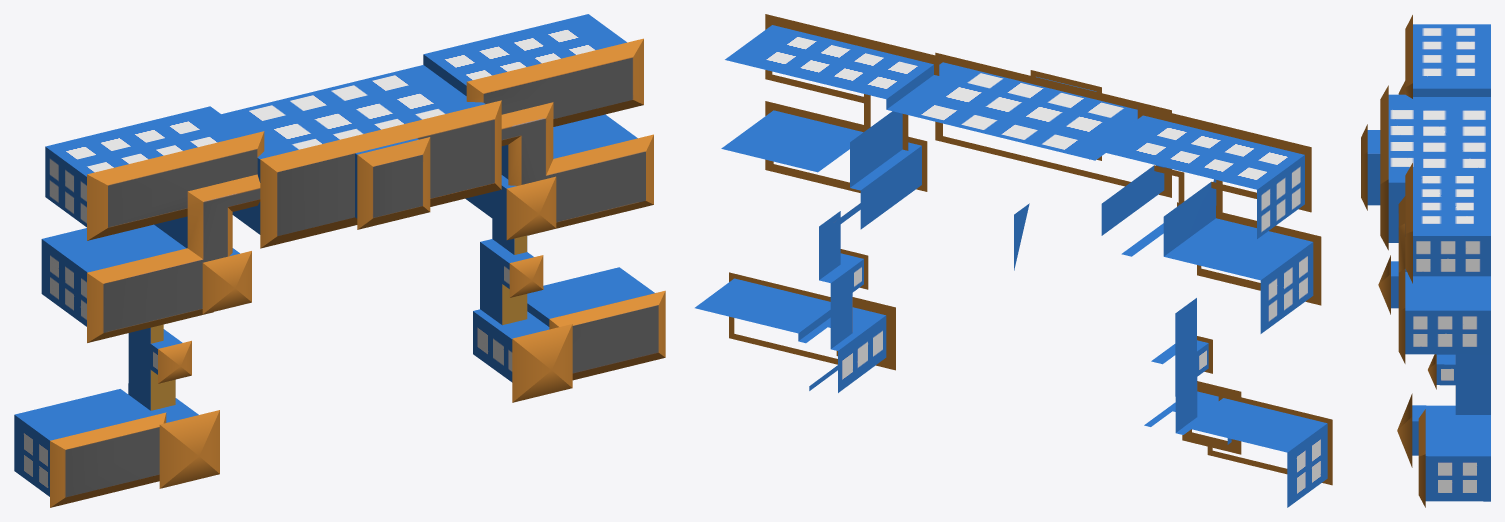
The model's file is WeiHai_Government_High.gltf.
3 views of the same model, side by side, from view 1: azimuth 30°, elevation 25°; view 2: azimuth 150°, elevation 25°; view 3: azimuth 270°, elevation 25° (orthographic). The views are drawn at different scales.
Parts seen in each view (by area): view 1: WeiHai_Government_High; view 2: WeiHai_Government_High; view 3: WeiHai_Government_High.
Part boxes in pixels (x1,y1,x2,y2): WeiHai_Government_High: (14,14,665,507); WeiHai_Government_High: (695,14,1332,507); WeiHai_Government_High: (1361,15,1490,507).
Bounding box in the file's own units: 183 × 94.3 × 41.78.
Materials: 1 (1 with a texture image).
